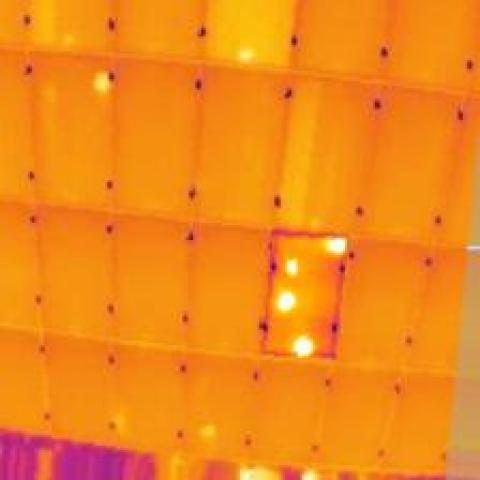fault: (88, 66, 118, 103), (272, 287, 300, 322), (287, 332, 317, 362), (322, 232, 350, 260), (283, 253, 302, 283), (232, 45, 257, 64)
